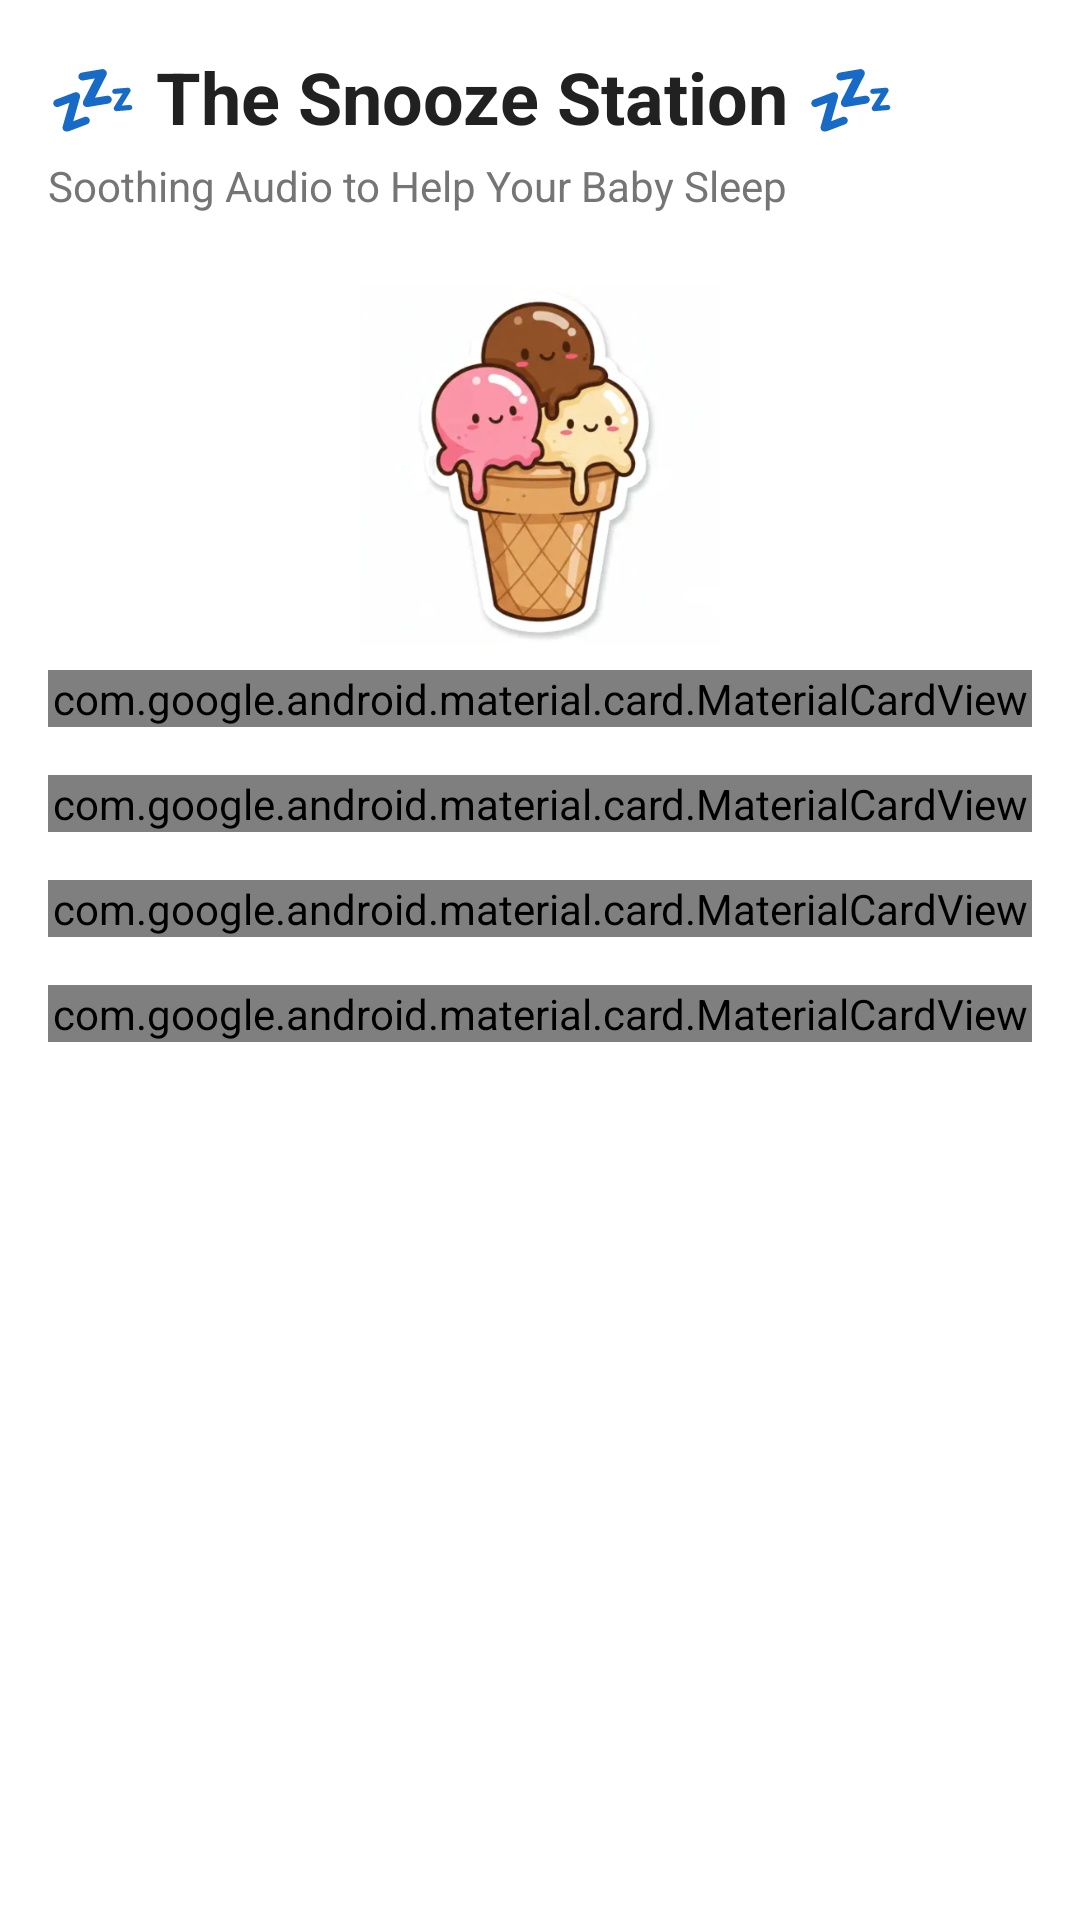

Named icons in this screenshot (1080 × 1920) and their bounding boxes, (x1, y1, x2, y2):
White, Brown and Pink noise represented as ice cream scoops: (430, 301, 652, 638)
